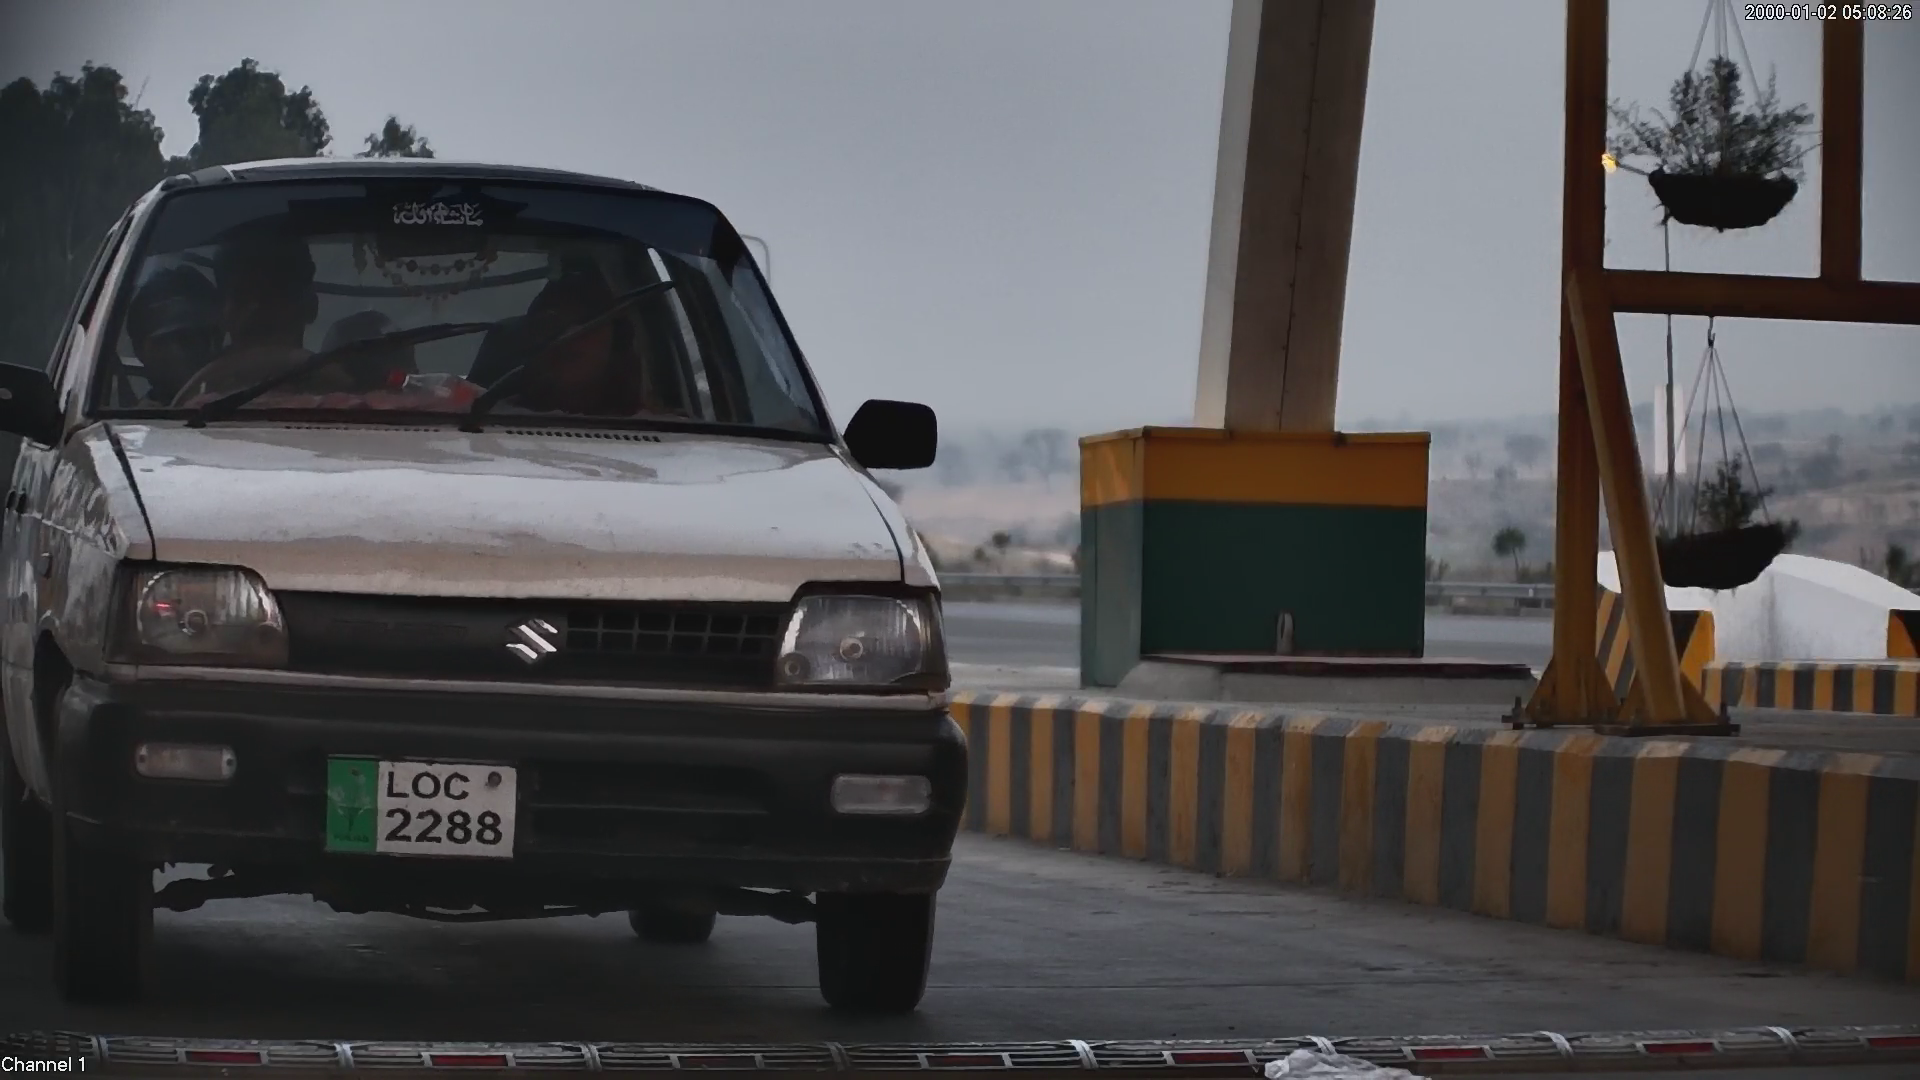Number_Plate: (319, 739, 529, 869)
